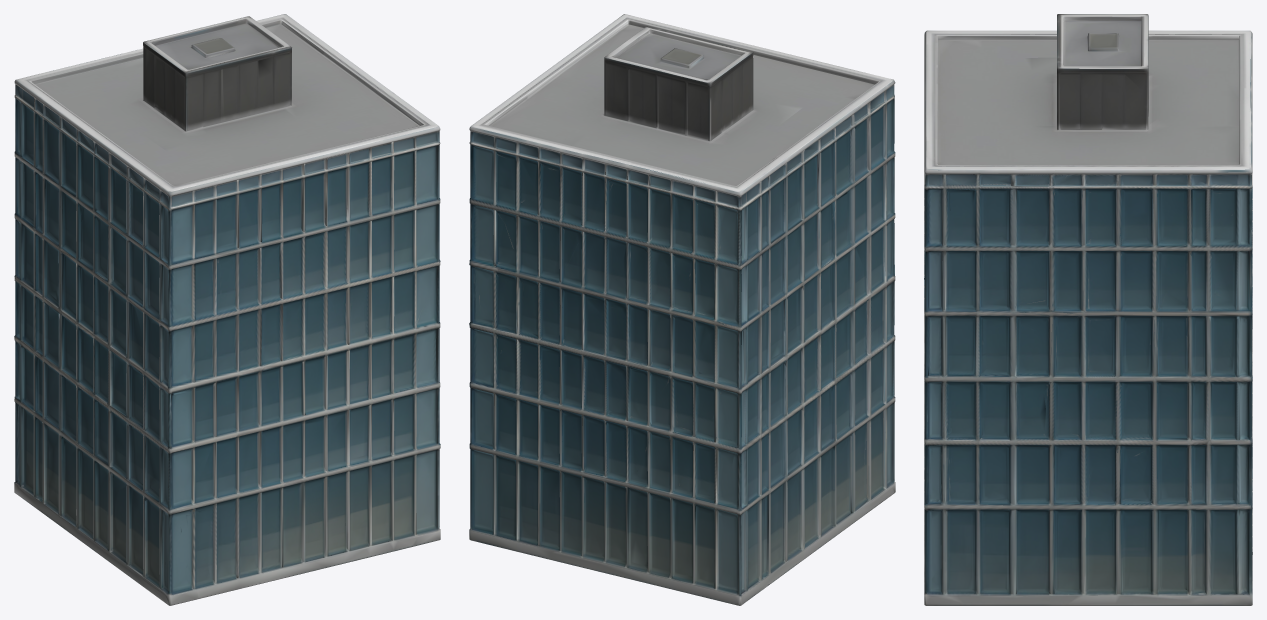
File: blue_building.glb
3 renders of one model, left to right at view 1: azimuth 30°, elevation 25°; view 2: azimuth 150°, elevation 25°; view 3: azimuth 270°, elevation 25°, orthographic. The views are drawn at different scales.
Parts seen in each view (by area): view 1: node_0; view 2: node_0; view 3: node_0.
Part boxes in pixels (x1,y1,x2,y2): node_0: (14, 14, 440, 605); node_0: (469, 14, 895, 605); node_0: (924, 14, 1252, 605).
Bounding box in the file's own units: 0.557 × 0.9146 × 0.5518.
1 material, 1 textured.
